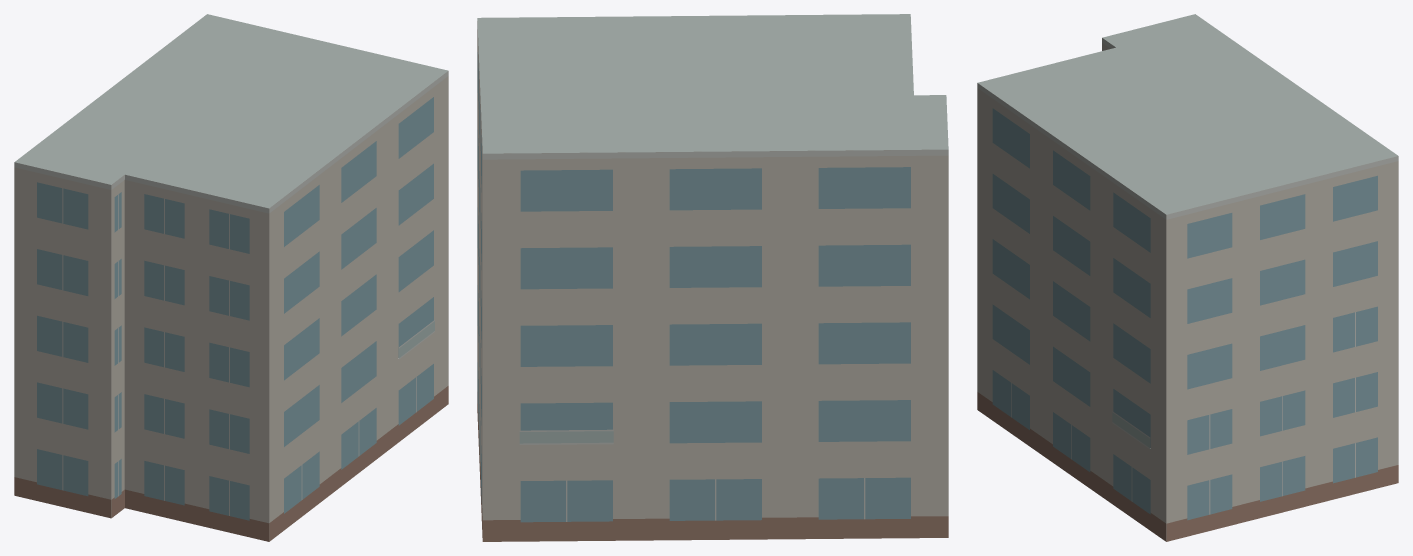
Rendered from survey-upis-32772246.glb.
The picture shows the model from 3 angles, left to right: view 1: azimuth 30°, elevation 25°; view 2: azimuth 150°, elevation 25°; view 3: azimuth 270°, elevation 25°; orthographic projection. The views are drawn at different scales.
Visible parts, largest first — view 1: survey-upis-32772246.tmp; view 2: survey-upis-32772246.tmp; view 3: survey-upis-32772246.tmp.
Boxes of the visible parts, left/top/right/bottom form: survey-upis-32772246.tmp: left=14, top=14, right=448, bottom=541; survey-upis-32772246.tmp: left=477, top=14, right=948, bottom=541; survey-upis-32772246.tmp: left=977, top=14, right=1398, bottom=541.
Bounding box in the file's own units: 20.88 × 15.85 × 18.51.
